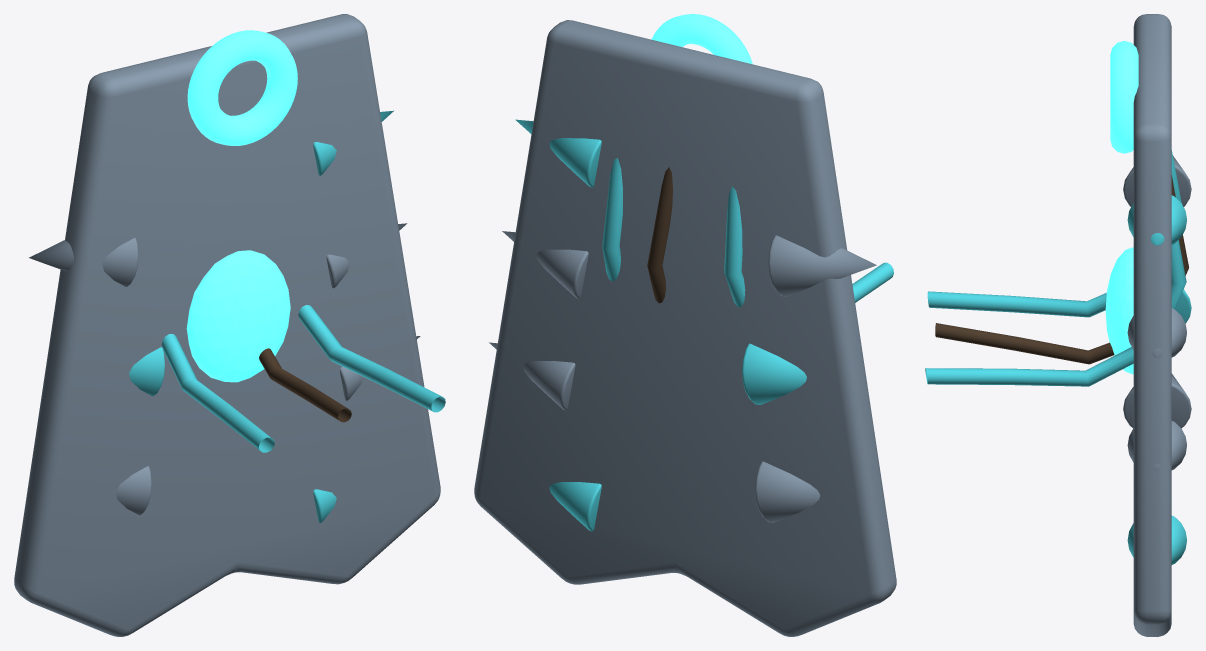
Rendered from cloak_v3.glb.
3 renders of one model, left to right at view 1: azimuth 30°, elevation 25°; view 2: azimuth 150°, elevation 25°; view 3: azimuth 270°, elevation 25°, orthographic. The views are drawn at different scales.
Visible parts, largest first — view 1: CLOAK_FABRIC_PRIMARY, VARIANT_CORE_EMISSIVE, CLOAK_CLASP_EMISSIVE, CLOAK_FOLD_3_ACCENT, CLOAK_FOLD_1_ACCENT, VARIANT_SPINE_PRIMARY.003, CLOAK_FOLD_2_SECONDARY, VARIANT_SPINE_PRIMARY, VARIANT_SPINE_ACCENT.001, VARIANT_SPINE_ACCENT.002; view 2: CLOAK_FABRIC_PRIMARY, VARIANT_SPINE_PRIMARY.003, CLOAK_CLASP_EMISSIVE, CLOAK_FOLD_1_ACCENT, VARIANT_SPINE_PRIMARY, VARIANT_SPINE_ACCENT.001, CLOAK_FOLD_2_SECONDARY, CLOAK_FOLD_3_ACCENT, VARIANT_SPINE_ACCENT.002, VARIANT_SPINE_PRIMARY.002, VARIANT_SPINE_PRIMARY.001, VARIANT_SPINE_ACCENT; view 3: CLOAK_FABRIC_PRIMARY, CLOAK_FOLD_3_ACCENT, CLOAK_FOLD_1_ACCENT, CLOAK_FOLD_2_SECONDARY, CLOAK_CLASP_EMISSIVE, VARIANT_CORE_EMISSIVE, VARIANT_SPINE_PRIMARY, VARIANT_SPINE_ACCENT.002, VARIANT_SPINE_PRIMARY.002, VARIANT_SPINE_PRIMARY.001, VARIANT_SPINE_PRIMARY.003, VARIANT_SPINE_ACCENT.
Boxes of the visible parts, bbox=[...] form: CLOAK_FABRIC_PRIMARY: bbox=[14, 14, 440, 636]; VARIANT_CORE_EMISSIVE: bbox=[186, 250, 290, 382]; CLOAK_CLASP_EMISSIVE: bbox=[187, 30, 297, 145]; CLOAK_FOLD_3_ACCENT: bbox=[298, 305, 445, 412]; CLOAK_FOLD_1_ACCENT: bbox=[161, 334, 274, 452]; VARIANT_SPINE_PRIMARY.003: bbox=[29, 238, 138, 286]; CLOAK_FOLD_2_SECONDARY: bbox=[259, 348, 351, 422]; VARIANT_SPINE_PRIMARY: bbox=[115, 466, 151, 515]; VARIANT_SPINE_ACCENT.001: bbox=[129, 347, 164, 396]; VARIANT_SPINE_ACCENT.002: bbox=[313, 110, 393, 175]; CLOAK_FABRIC_PRIMARY: bbox=[474, 20, 896, 636]; VARIANT_SPINE_PRIMARY.003: bbox=[768, 235, 876, 296]; CLOAK_CLASP_EMISSIVE: bbox=[651, 14, 752, 64]; CLOAK_FOLD_1_ACCENT: bbox=[724, 186, 893, 307]; VARIANT_SPINE_PRIMARY: bbox=[755, 461, 820, 522]; VARIANT_SPINE_ACCENT.001: bbox=[742, 343, 806, 404]; CLOAK_FOLD_2_SECONDARY: bbox=[647, 167, 672, 303]; CLOAK_FOLD_3_ACCENT: bbox=[602, 158, 622, 281]; VARIANT_SPINE_ACCENT.002: bbox=[515, 119, 601, 187]; VARIANT_SPINE_PRIMARY.002: bbox=[502, 231, 588, 298]; VARIANT_SPINE_PRIMARY.001: bbox=[489, 342, 575, 410]; VARIANT_SPINE_ACCENT: bbox=[549, 482, 601, 531]; CLOAK_FABRIC_PRIMARY: bbox=[1133, 14, 1171, 636]; CLOAK_FOLD_3_ACCENT: bbox=[925, 240, 1186, 386]; CLOAK_FOLD_1_ACCENT: bbox=[927, 150, 1181, 317]; CLOAK_FOLD_2_SECONDARY: bbox=[935, 175, 1188, 364]; CLOAK_CLASP_EMISSIVE: bbox=[1110, 41, 1138, 153]; VARIANT_CORE_EMISSIVE: bbox=[1105, 247, 1133, 374]; VARIANT_SPINE_PRIMARY: bbox=[1123, 373, 1191, 428]; VARIANT_SPINE_ACCENT.002: bbox=[1127, 195, 1186, 245]; VARIANT_SPINE_PRIMARY.002: bbox=[1127, 308, 1186, 357]; VARIANT_SPINE_PRIMARY.001: bbox=[1127, 421, 1186, 470]; VARIANT_SPINE_PRIMARY.003: bbox=[1123, 155, 1191, 206]; VARIANT_SPINE_ACCENT: bbox=[1127, 515, 1186, 564].
Size of the model in its own units: 1.88 by 2.53 by 1.13.
